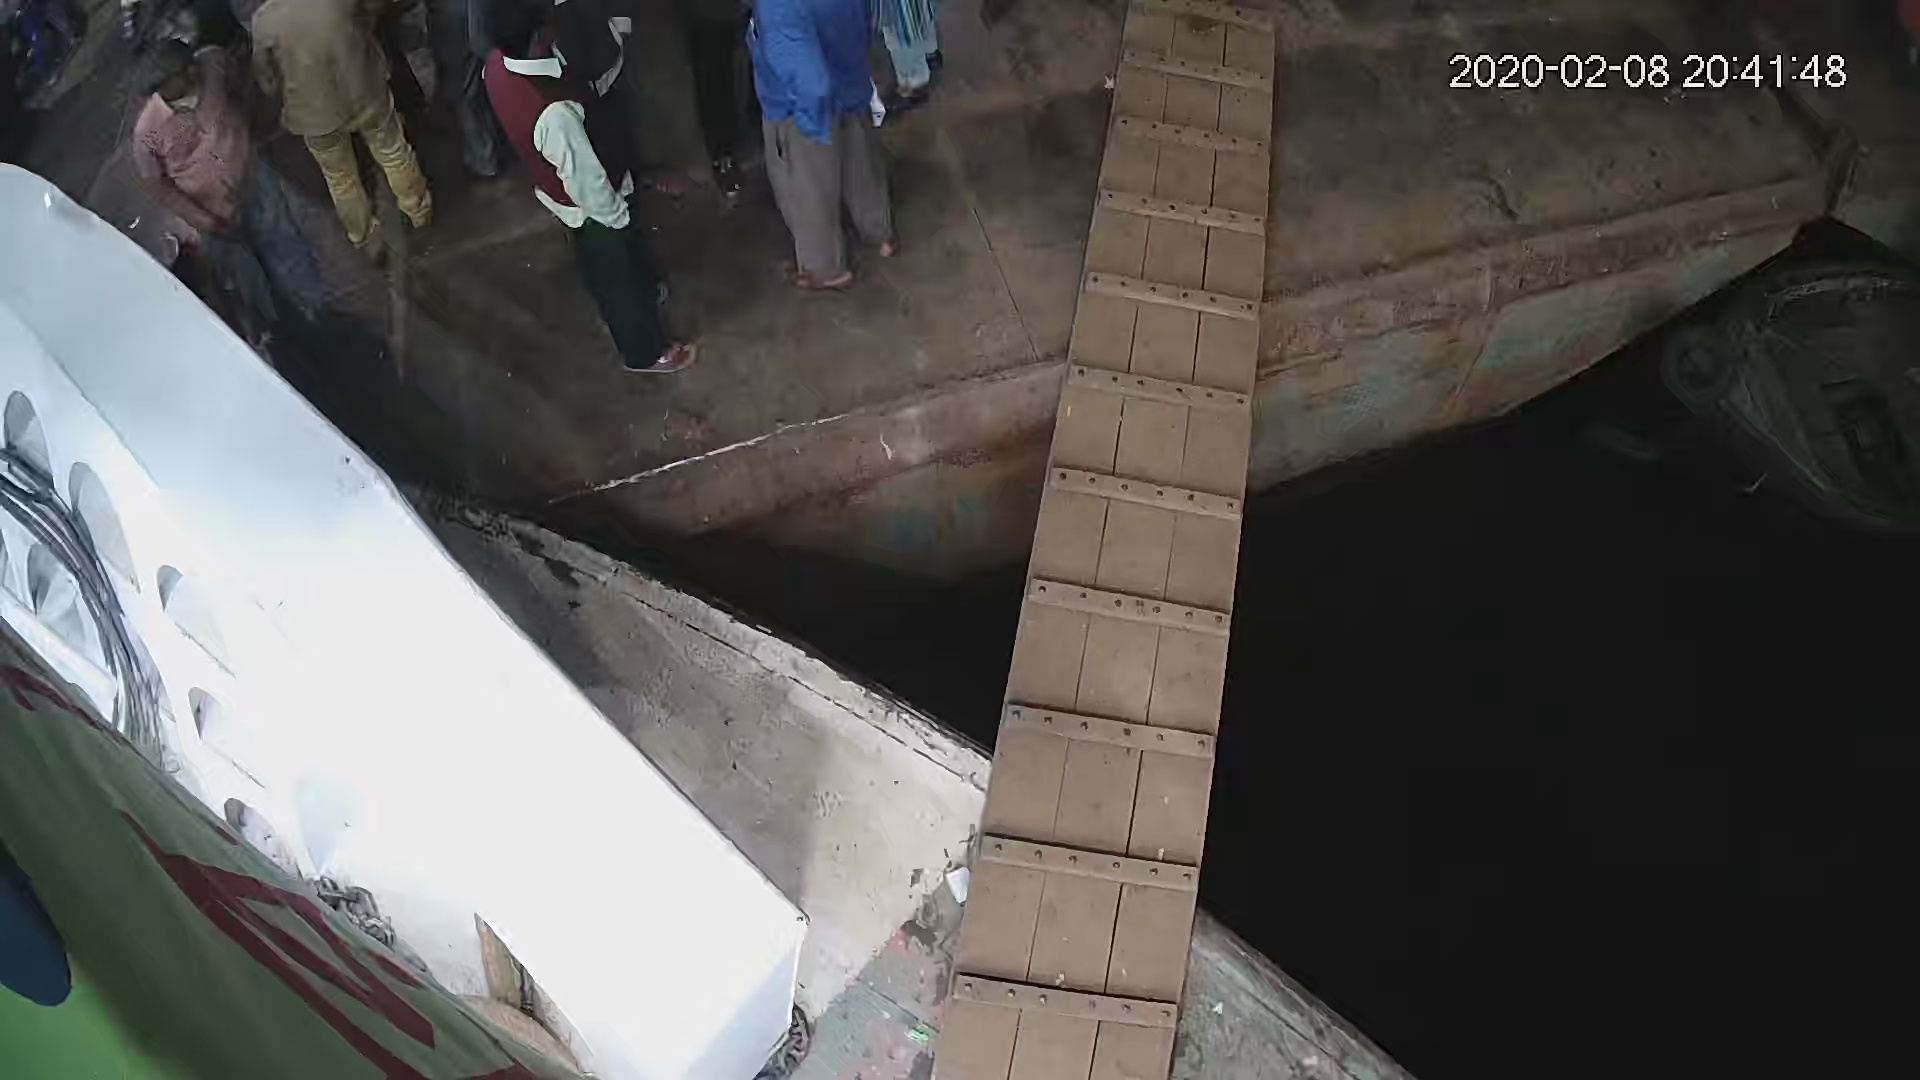person: (469, 5, 704, 380), (133, 36, 331, 330), (244, 3, 435, 263), (741, 1, 896, 297)
